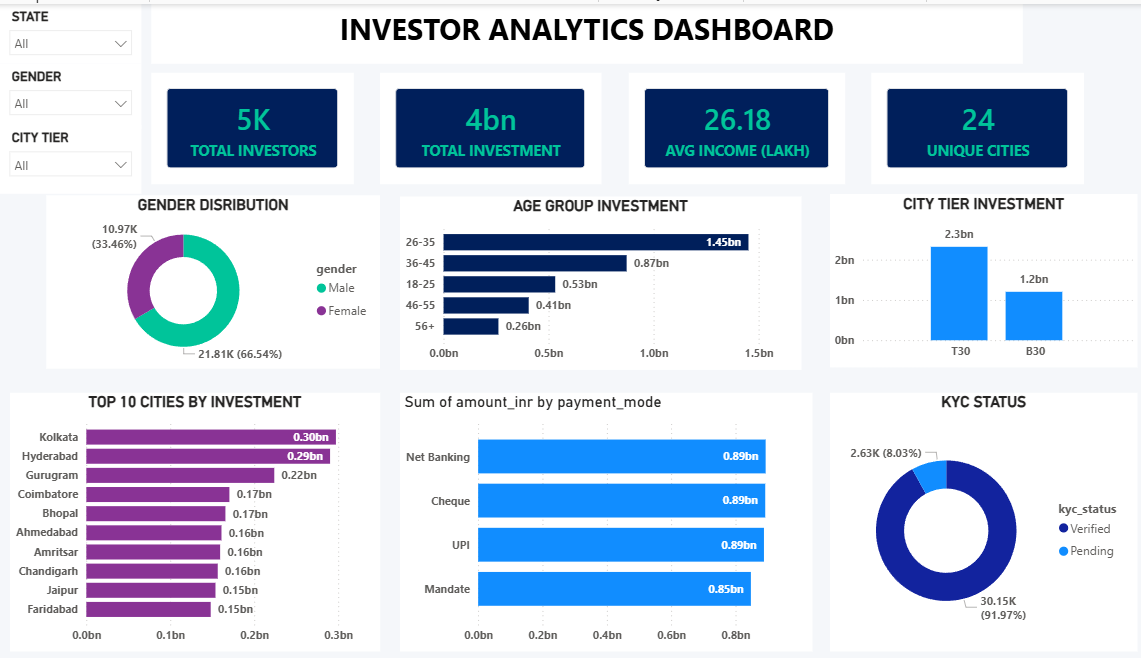

The dashboard page shown, as its layout file describes it:
{"tool":"powerbi","page":{"name":"Investor  Analytics","canvas":[1280,720],"ordinal":3},"visuals":[{"type":"textbox","box":[166,0,956.4,65.9],"z":0},{"type":"cardVisual","fields":{"Data":["01_fund_master.Total_Investors"]},"box":[166,75.5,222.3,122.1],"z":1},{"type":"cardVisual","fields":{"Data":["01_fund_master.Total_Investment"]},"box":[417.6,75.5,242.9,122.1],"z":2},{"type":"cardVisual","fields":{"Data":["01_fund_master.Avg_Income"]},"box":[689.8,75.5,237.4,122.1],"z":3},{"type":"cardVisual","fields":{"Data":["01_fund_master.Unique_Cities"]},"box":[956.4,75.5,233.3,122.1],"z":4},{"type":"donutChart","title":"GENDER DISRIBUTION","fields":{"Category":["08_investor_transactions.gender"],"Y":["CountNonNull(08_investor_transactions.investor_id)"]},"box":[50.8,209.9,366.4,190.7],"z":5},{"type":"clusteredBarChart","title":"AGE GROUP INVESTMENT","fields":{"Category":["08_investor_transactions.age_group"],"Y":["Sum(08_investor_transactions.amount_inr)"]},"box":[439.1,211.3,440.5,190.7],"z":6},{"type":"slicer","fields":{"Values":["08_investor_transactions.state"]},"box":[0,0,155.1,65.9],"z":7},{"type":"slicer","fields":{"Values":["08_investor_transactions.gender"]},"box":[0,65.9,155.1,71.4],"z":8},{"type":"slicer","fields":{"Values":["08_investor_transactions.city_tier"]},"box":[0,133.1,155.1,75.5],"z":9},{"type":"clusteredColumnChart","title":"CITY TIER INVESTMENT","fields":{"Y":["Sum(08_investor_transactions.amount_inr)"],"Category":["08_investor_transactions.city_tier"]},"box":[911.2,208.6,337.6,190.7],"z":10},{"type":"donutChart","title":"KYC STATUS","fields":{"Category":["08_investor_transactions.kyc_status"],"Y":["CountNonNull(08_investor_transactions.investor_id)"]},"box":[911.2,426.8,337.6,284],"z":11},{"type":"clusteredBarChart","title":"TOP 10 CITIES BY INVESTMENT","fields":{"Category":["08_investor_transactions.city"],"Y":["Sum(08_investor_transactions.amount_inr)"]},"box":[11,426.8,406.2,284],"z":13},{"type":"clusteredBarChart","fields":{"Category":["08_investor_transactions.payment_mode"],"Y":["Sum(08_investor_transactions.amount_inr)"]},"box":[439.1,426.8,452.8,284],"z":14}]}

Visuals, with their boxes in screenshot pixels (x1, y1, x2, y2), scaled from the page's 1280x720 canvas onto the 1141x658 screenshot:
textbox: bbox(148, 0, 1001, 60)
cardVisual - 01_fund_master.Total_Investors: bbox(148, 69, 346, 181)
cardVisual - 01_fund_master.Total_Investment: bbox(372, 69, 589, 181)
cardVisual - 01_fund_master.Avg_Income: bbox(615, 69, 827, 181)
cardVisual - 01_fund_master.Unique_Cities: bbox(853, 69, 1061, 181)
"GENDER DISRIBUTION" donutChart: bbox(45, 192, 372, 366)
"AGE GROUP INVESTMENT" clusteredBarChart: bbox(391, 193, 784, 367)
slicer - 08_investor_transactions.state: bbox(0, 0, 138, 60)
slicer - 08_investor_transactions.gender: bbox(0, 60, 138, 125)
slicer - 08_investor_transactions.city_tier: bbox(0, 122, 138, 191)
"CITY TIER INVESTMENT" clusteredColumnChart: bbox(812, 191, 1113, 365)
"KYC STATUS" donutChart: bbox(812, 390, 1113, 650)
"TOP 10 CITIES BY INVESTMENT" clusteredBarChart: bbox(10, 390, 372, 650)
clusteredBarChart - 08_investor_transactions.payment_mode x Sum(08_investor_transactions.amount_inr): bbox(391, 390, 795, 650)
